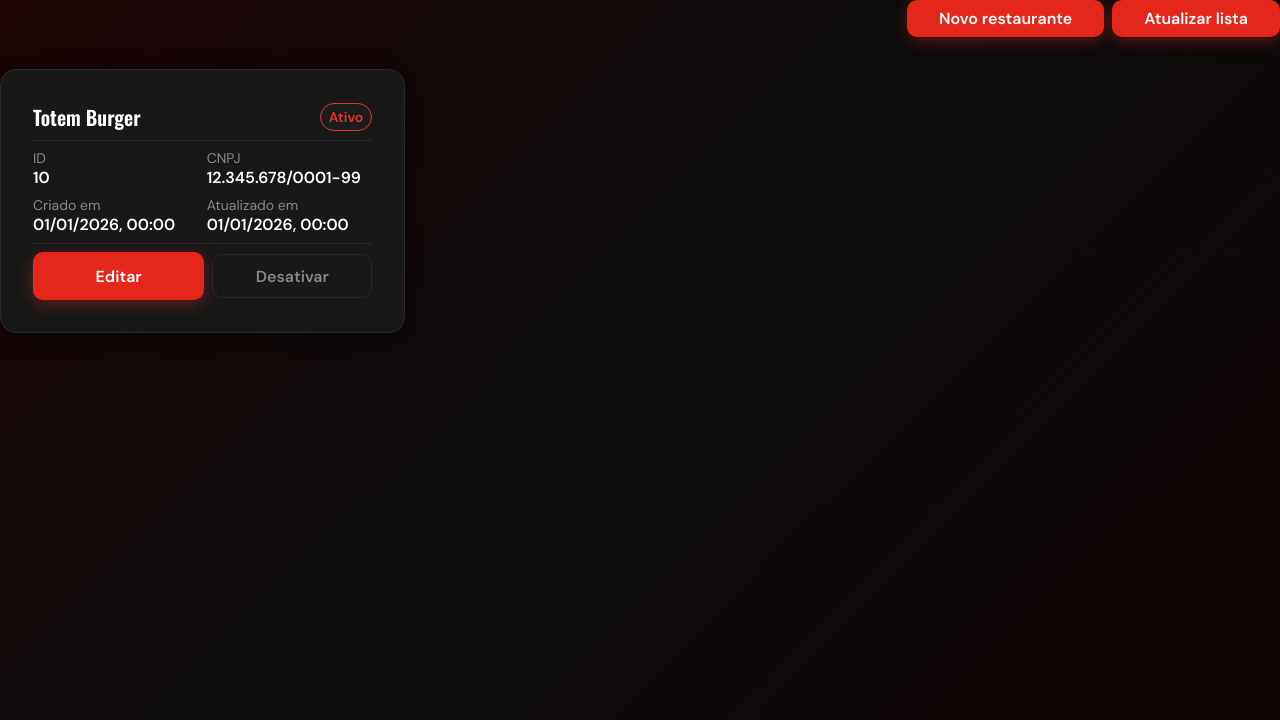
Scenario: AdminRestaurantesPage › abre o modal de edição preenchido com os dados do restaurante
Expected: the heading "Totem Burger" is shown, [33,102,141,132]
Click the button "Editar".
click(119, 276)  # box [33,252,204,300]
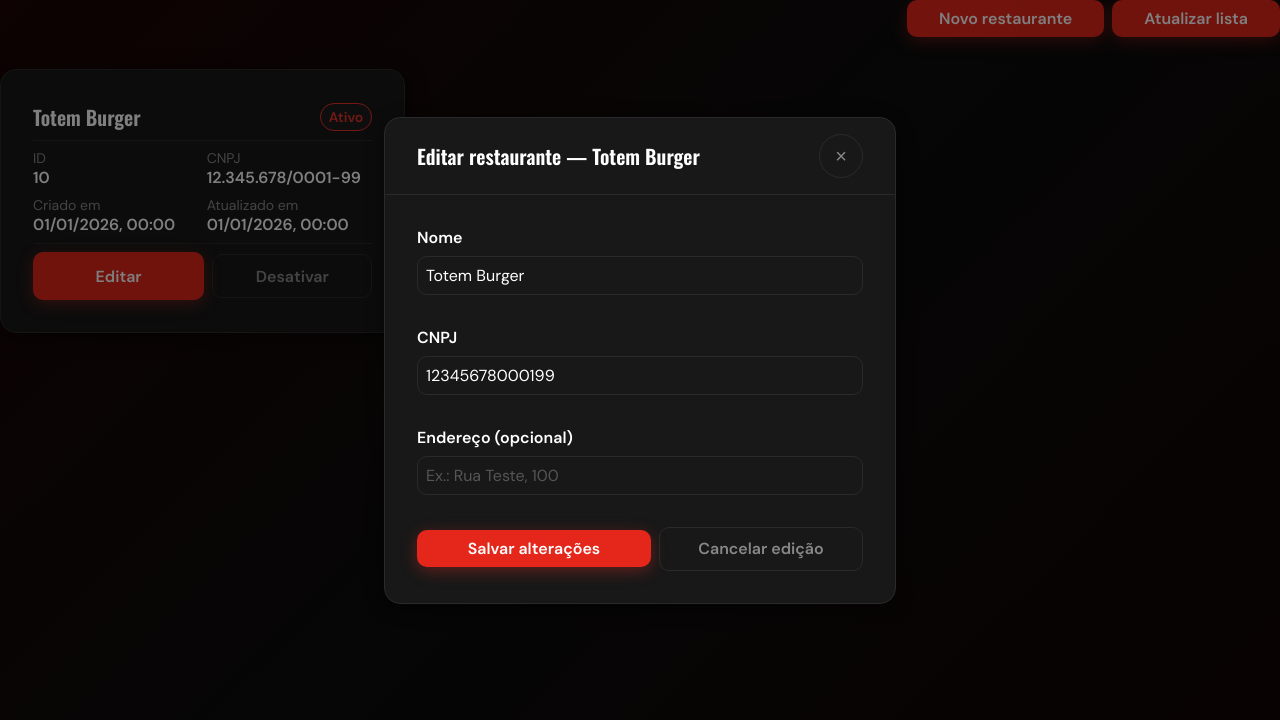
Expected: the heading "Editar restaurante — Totem Burger" is shown, [417,140,700,170]
Expected: the field labelled "Nome" holds "Totem Burger", [417,256,863,294]
Expected: the field labelled "CNPJ" holds "12345678000199", [417,356,863,394]
